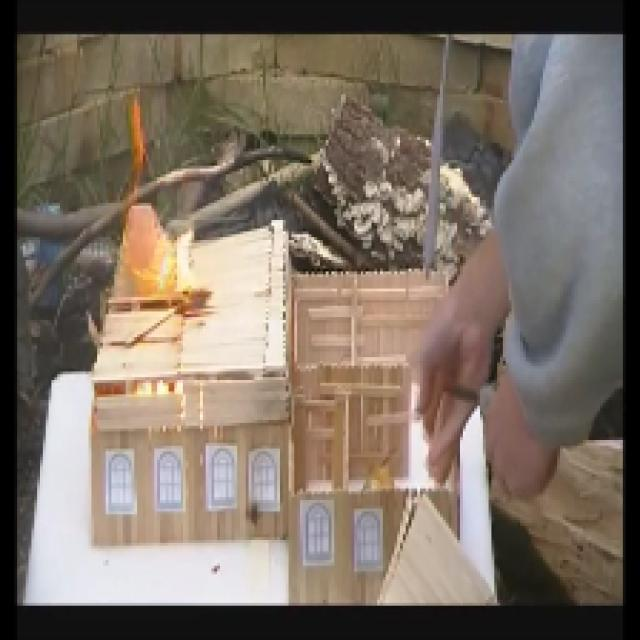Fire: (142, 216, 212, 320)
